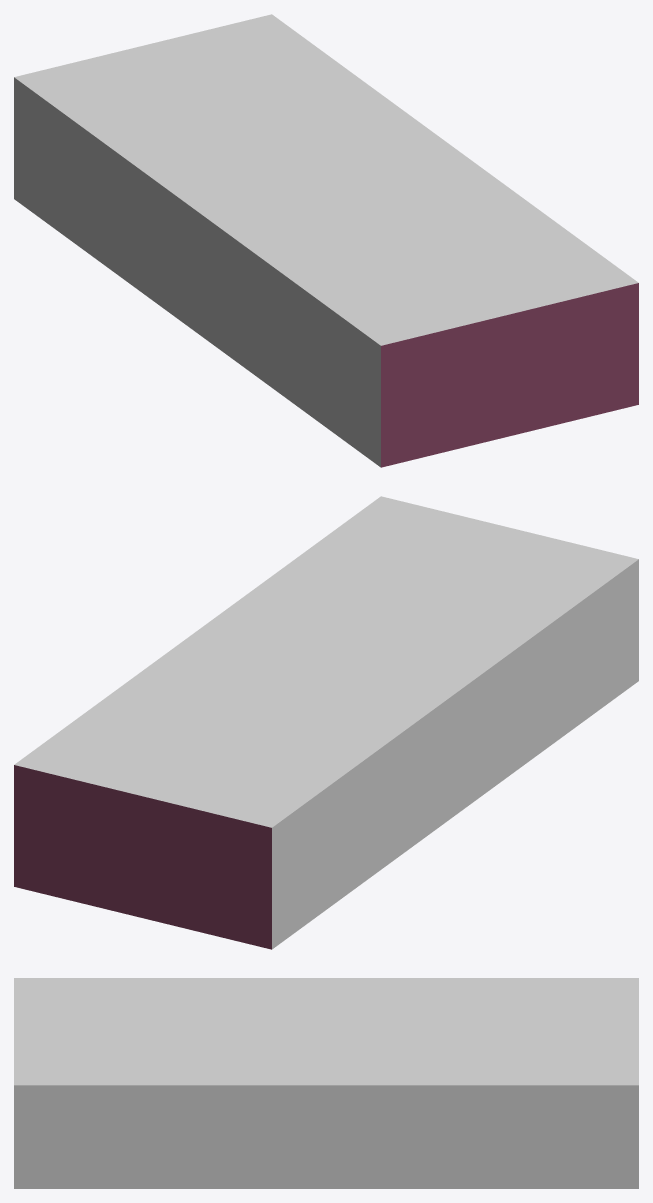
File: i_pills2.glb
3 views of the same model, one above another, from view 1: azimuth 30°, elevation 25°; view 2: azimuth 150°, elevation 25°; view 3: azimuth 270°, elevation 25° (orthographic). The views are drawn at different scales.
Visible parts, largest first — view 1: Cube; view 2: Cube; view 3: Cube.
Part boxes in pixels (box(x1,y1,x2,y2)): Cube: box(14, 14, 638, 467); Cube: box(14, 496, 638, 949); Cube: box(14, 978, 638, 1188).
Bounding box in the file's own units: 0.3664 × 0.1654 × 0.9031.
